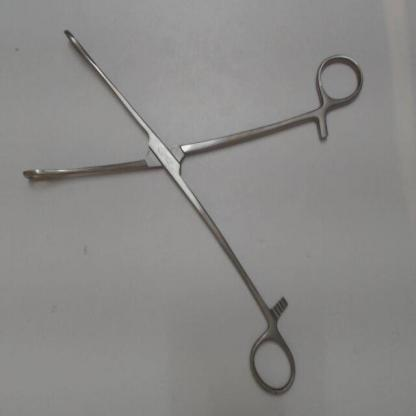Sponge Forceps: (15, 11, 370, 400)
